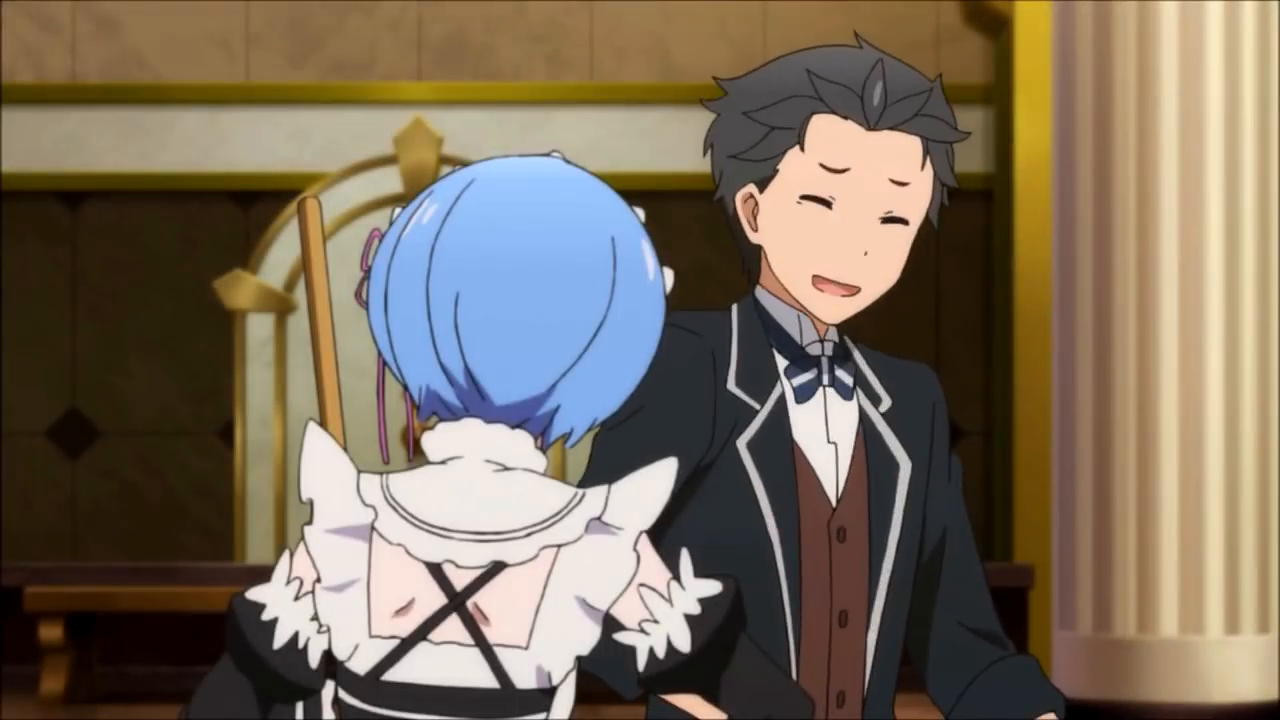REM: (350, 147, 688, 442)
